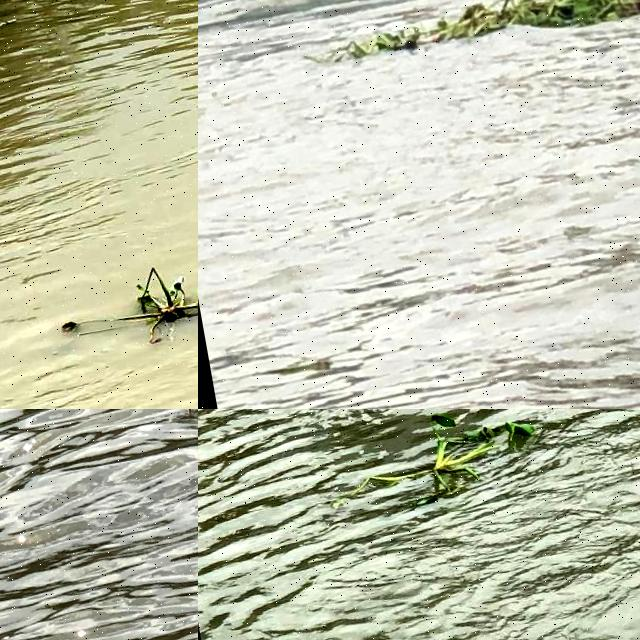water-hyacinth: (316, 1, 640, 79), (328, 410, 546, 518), (50, 252, 199, 359)
